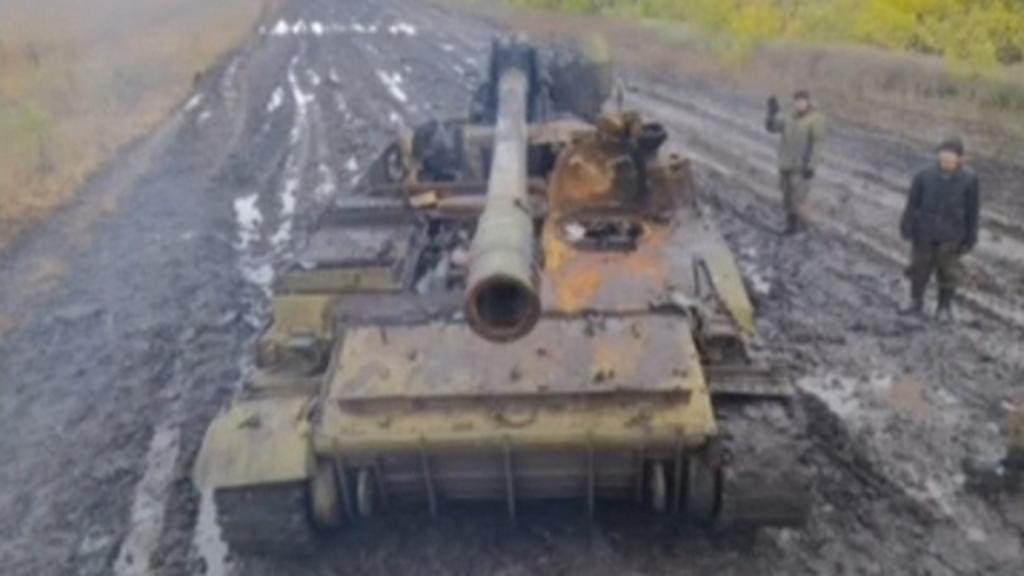ART: (198, 32, 814, 556)
